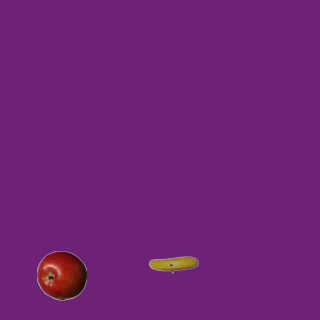Apple Braeburn: (36, 250, 86, 300)
Banana: (148, 239, 198, 289)
